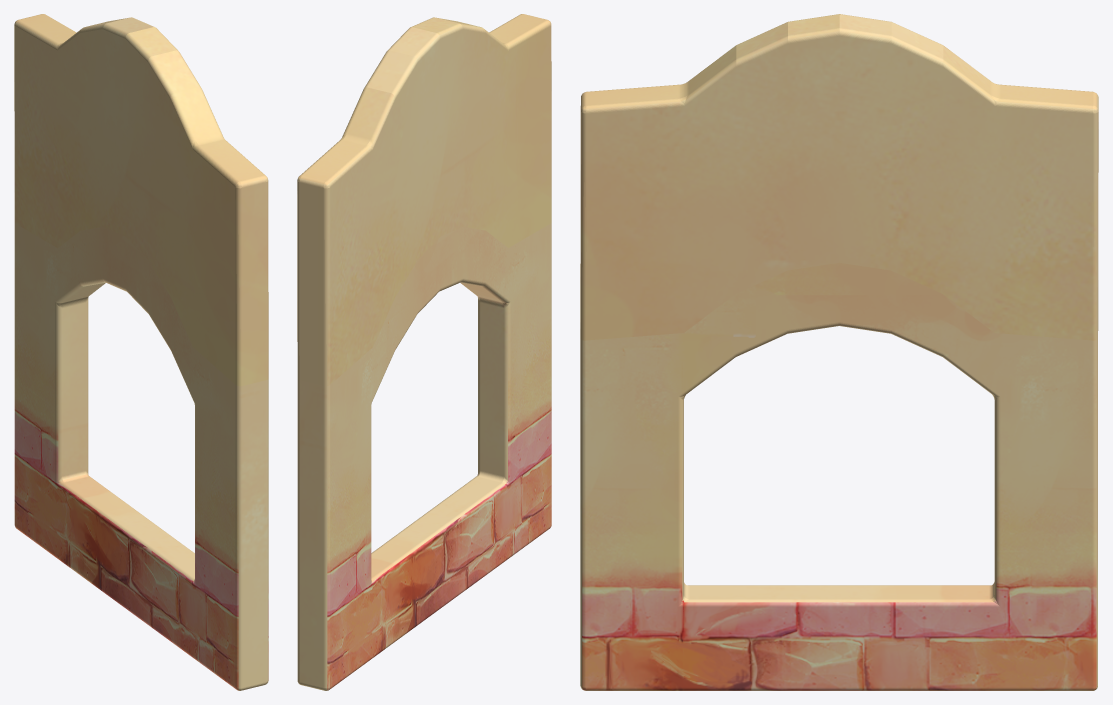
File: ParedVentana.fbx
The picture shows the model from 3 angles, left to right: view 1: azimuth 30°, elevation 25°; view 2: azimuth 150°, elevation 25°; view 3: azimuth 270°, elevation 25°; orthographic projection. The views are drawn at different scales.
Parts seen in each view (by area): view 1: Pared_lateral; view 2: Pared_lateral; view 3: Pared_lateral.
Part boxes in pixels (left/top/right/bottom): Pared_lateral: left=14, top=14, right=268, bottom=690; Pared_lateral: left=297, top=14, right=551, bottom=690; Pared_lateral: left=580, top=14, right=1098, bottom=690.
Bounding box in the file's own units: 99.17 × 1695 × 1201.
